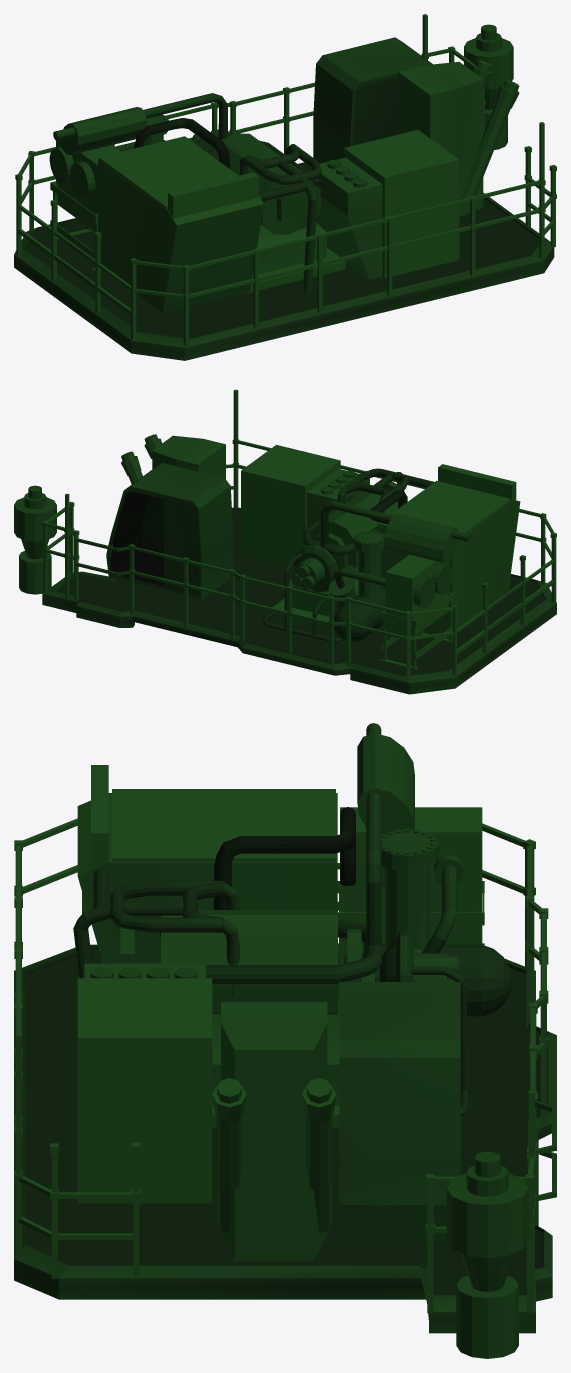
The picture shows the model from 3 angles, top to bottom: view 1: azimuth 30°, elevation 25°; view 2: azimuth 150°, elevation 25°; view 3: azimuth 270°, elevation 25°; orthographic projection. The views are drawn at different scales.
Visible parts, largest first — view 1: Link1; view 2: Link1; view 3: Link1.
Boxes of the visible parts, box(x1,y1,x2,y2) form: Link1: box(14, 14, 556, 360); Link1: box(14, 389, 556, 694); Link1: box(14, 723, 556, 1358).
Bounding box in the file's own units: 20.34 × 11.59 × 6.88.
